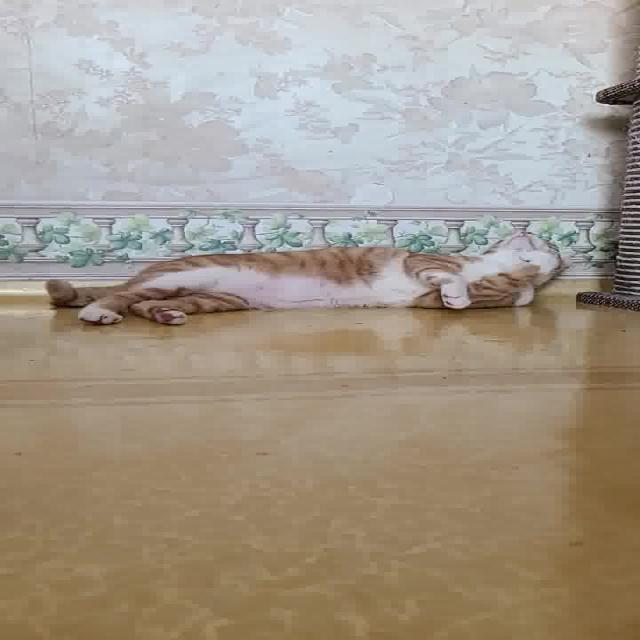cat: (27, 218, 616, 344)
